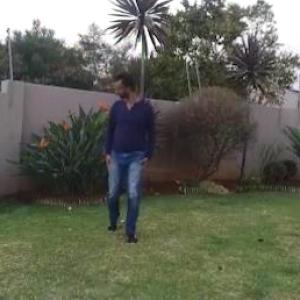follow: (99, 67, 156, 246)
